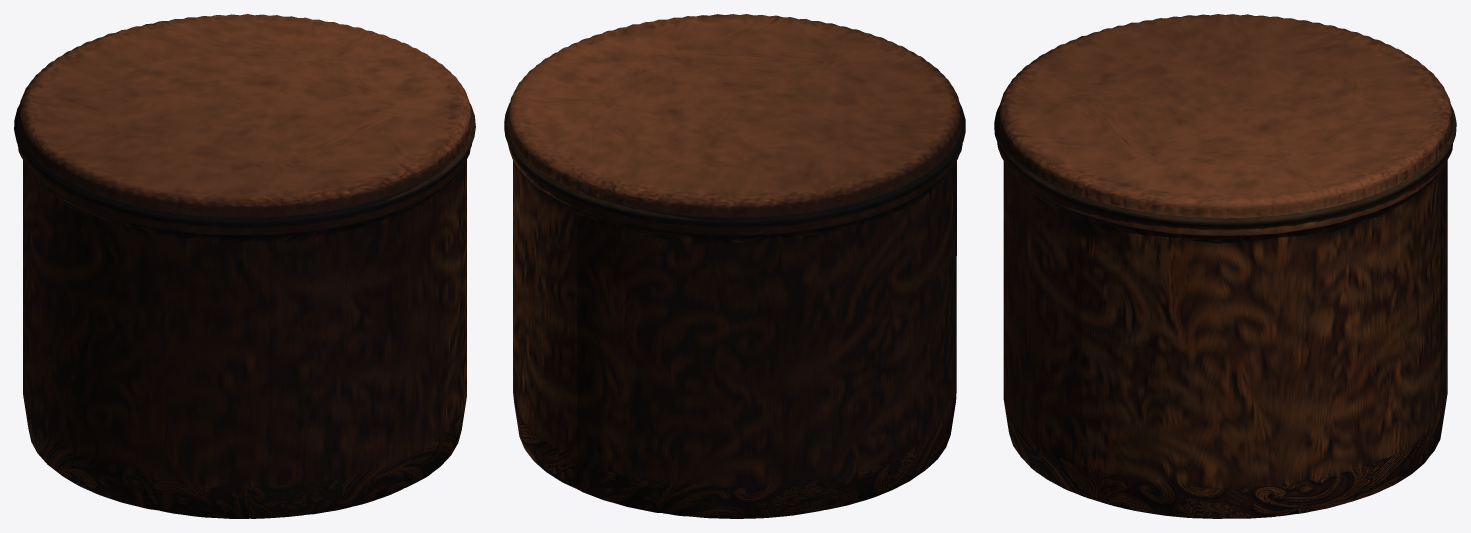
The model's file is Bdrum.glb.
The picture shows the model from 3 angles, left to right: view 1: azimuth 30°, elevation 25°; view 2: azimuth 150°, elevation 25°; view 3: azimuth 270°, elevation 25°; orthographic projection.
Visible parts, largest first — view 1: Icosphere; view 2: Icosphere; view 3: Icosphere.
Boxes of the visible parts, bbox=[...] form: Icosphere: bbox=[14, 14, 475, 518]; Icosphere: bbox=[504, 14, 965, 518]; Icosphere: bbox=[994, 14, 1456, 518].
Size of the model in its own units: 2.11 by 1.62 by 2.11.
Materials: 1 (1 with a texture image).
